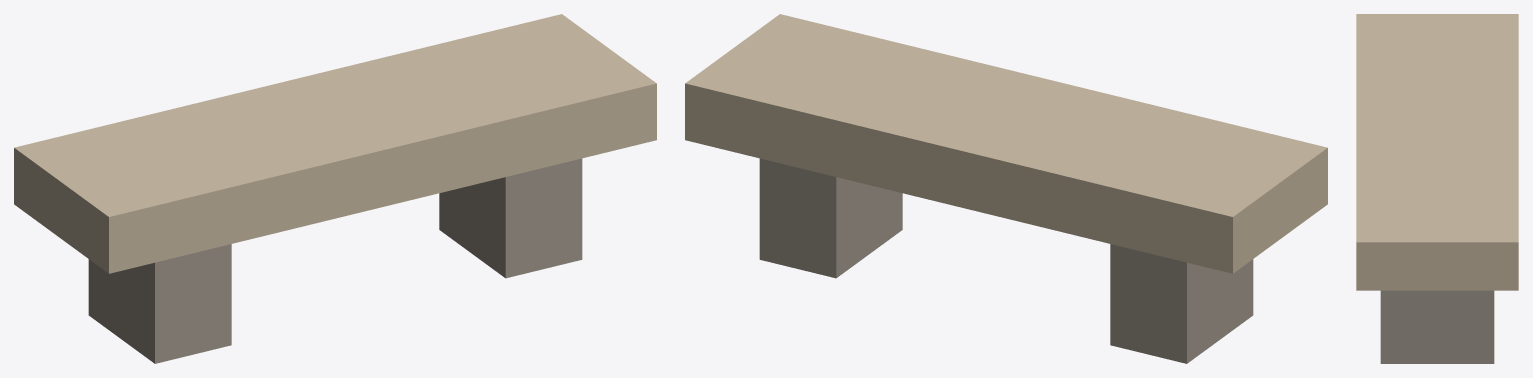
Rendered from bench_stone.fbx.
The picture shows the model from 3 angles, left to right: view 1: azimuth 30°, elevation 25°; view 2: azimuth 150°, elevation 25°; view 3: azimuth 270°, elevation 25°; orthographic projection. The views are drawn at different scales.
Visible parts, largest first — view 1: bench_stone; view 2: bench_stone; view 3: bench_stone.
Boxes of the visible parts, box(x1,y1,x2,y2) form: bench_stone: box(14, 14, 656, 363); bench_stone: box(685, 14, 1327, 363); bench_stone: box(1356, 14, 1518, 363).
Bounding box in the file's own units: 2 × 0.6 × 0.6.
